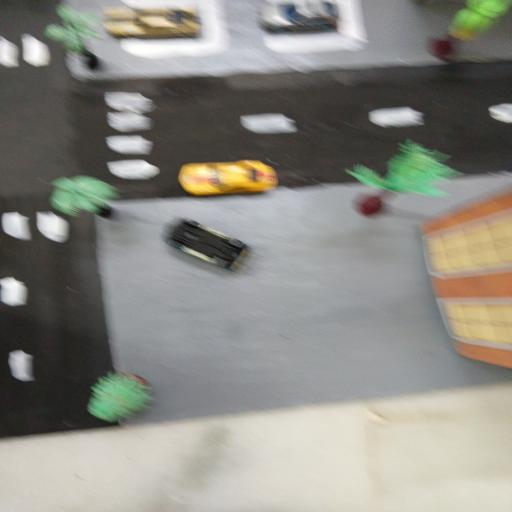car crash: (157, 212, 272, 284)
